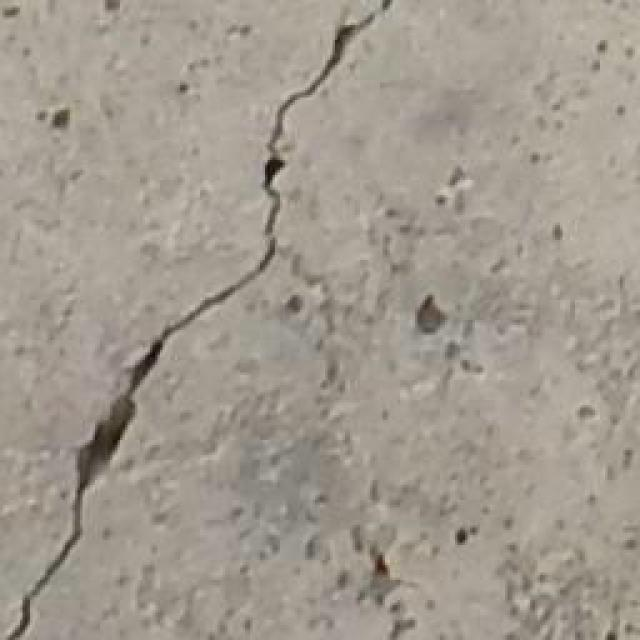concrete-crack: (9, 5, 393, 640)
